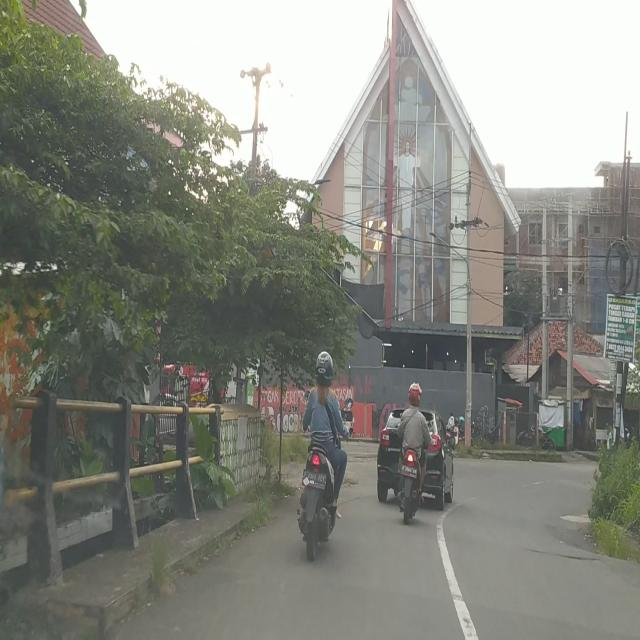Sewer Cover: (513, 545, 600, 561)
